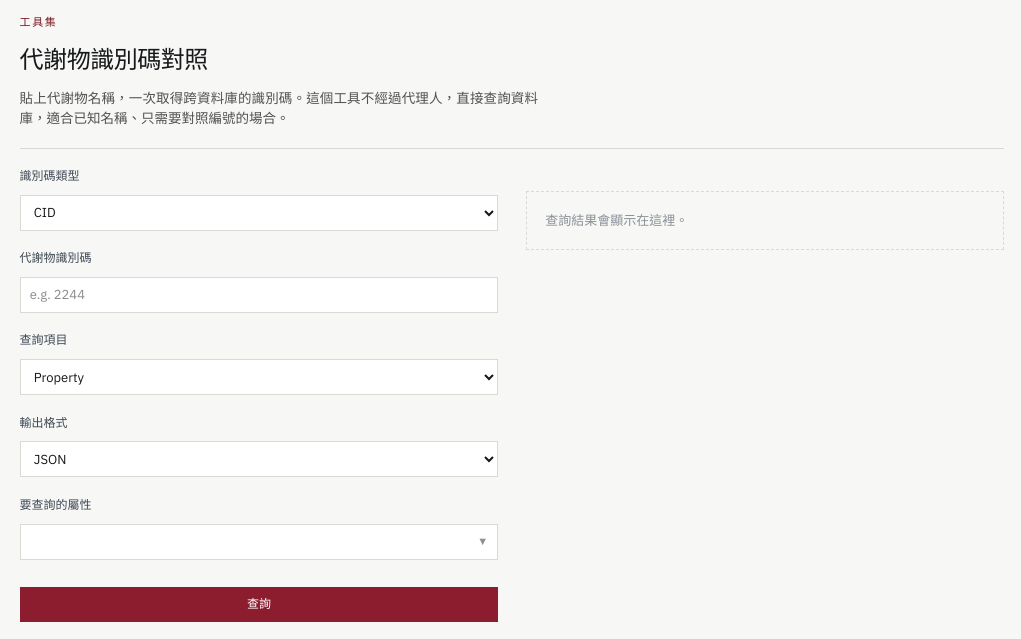
MappingTool › renders the backend's url and data, not a static success message
Type "2244" into the field with placeholder "e.g. 2244".
click(259, 295); type("2244")  # box x1=20 y1=277 x2=498 y2=313
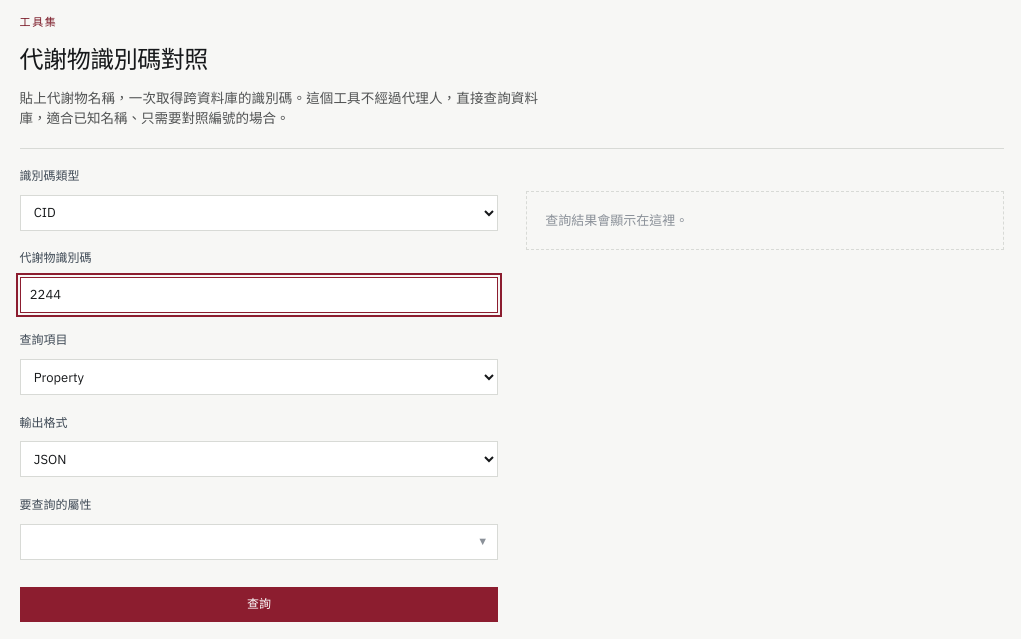
Click the button "查詢".
click(259, 605)  # box x1=20 y1=587 x2=498 y2=622
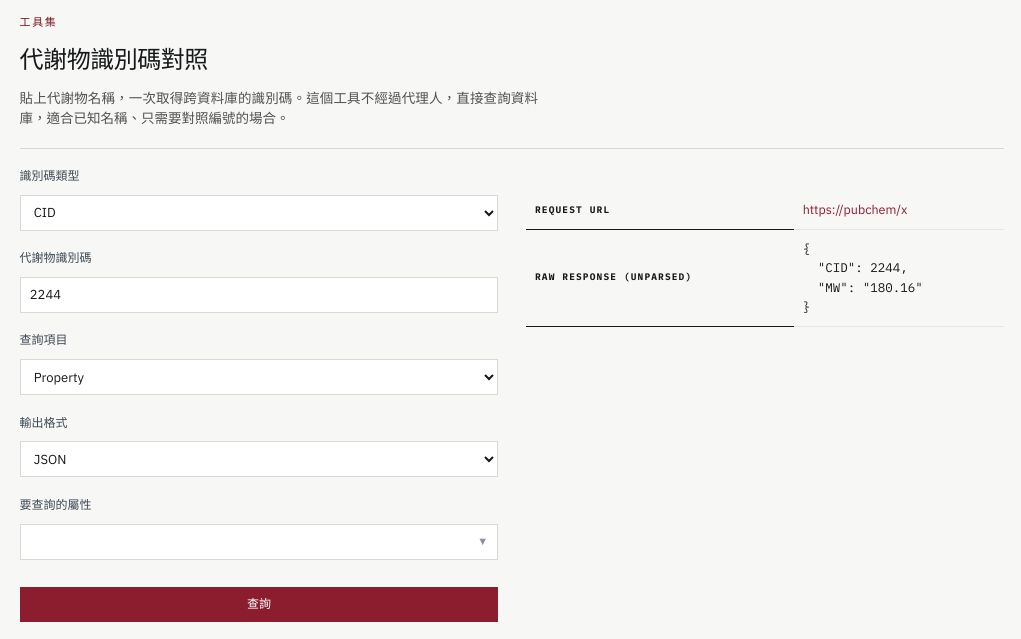
Expected: the text "{ \"CID\": 2244, \"MW\": \"180.16\" }" is shown, x1=803 y1=240 x2=923 y2=314
Expected: the link "https://pubchem/x" is shown, x1=803 y1=201 x2=907 y2=217
